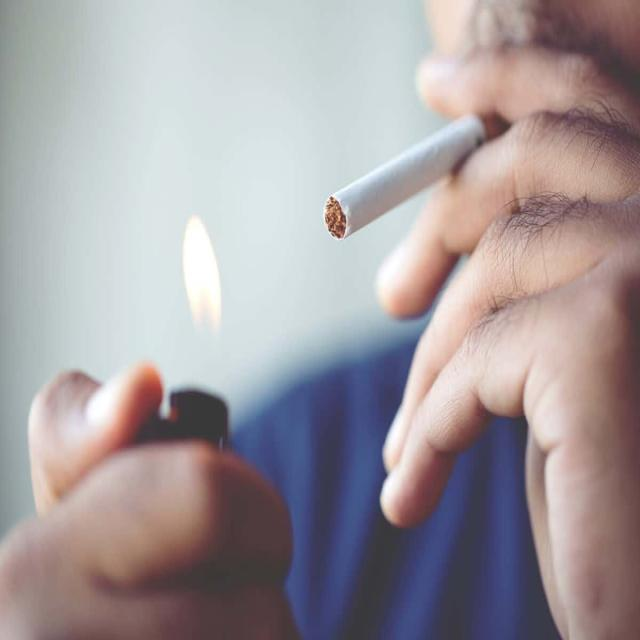rokok: (322, 112, 496, 238)
